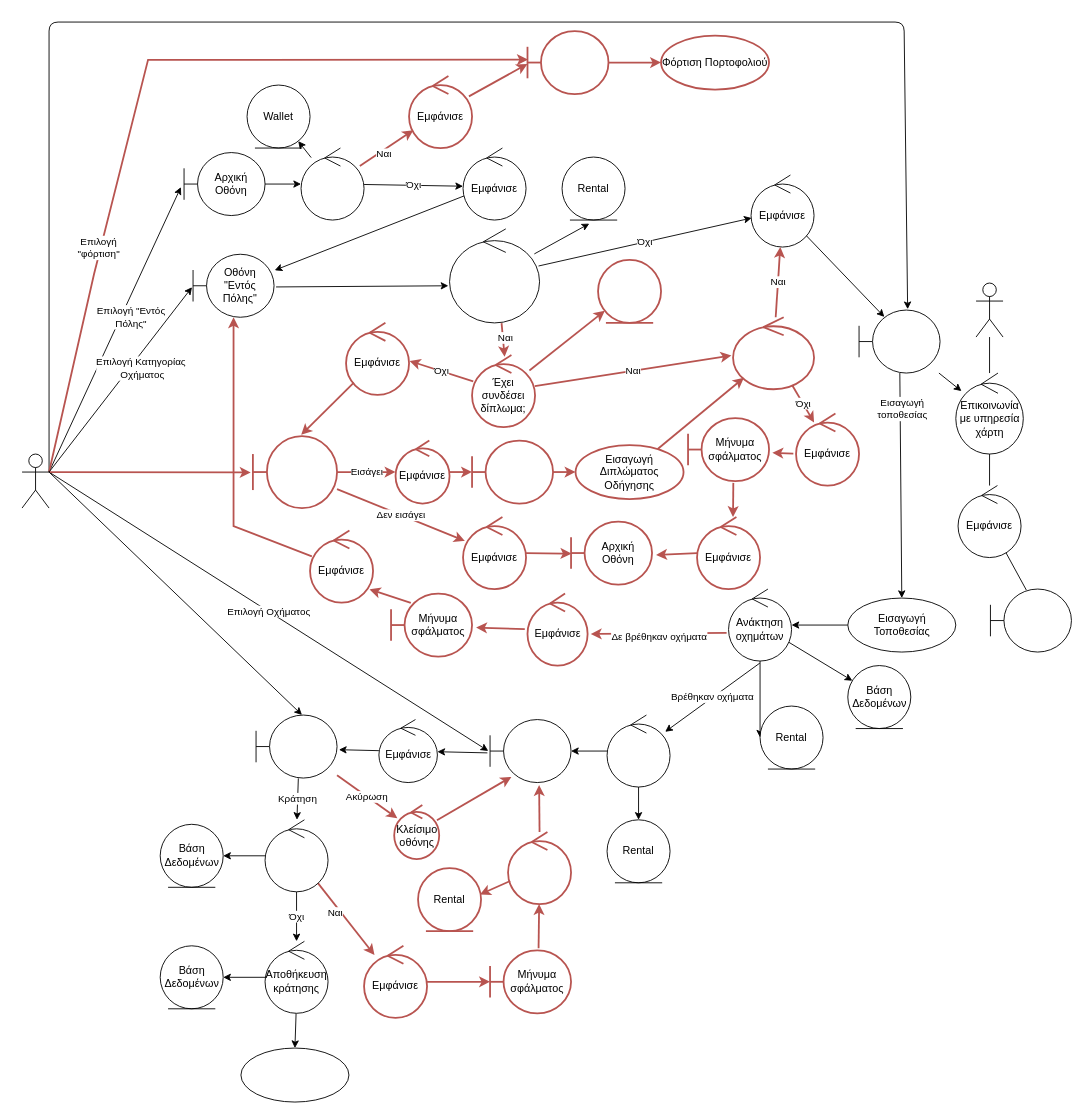
Image size: 1087x1118. Some labels were removed from this diagram. Each missing label, with the centre of its shape:
Customer: the point at 629,290
Έχει γίνει ήδη κράτηση;: the point at 296,855
Έχει ο πελάτης χρέος;: the point at 332,183
Απαιτεί το επιλεγμένο όχημα δίπλωμα;: the point at 494,275
Αφαίρεση οχήματος από χάρτη: the point at 539,867
Εμφάνιση οχημάτων στον χάρτη: the point at 638,750
Επιλογή Εισαγωγής Διπλώματος: the point at 295,471
Μήνυμα ύπαρξης χρέους: the point at 567,62
Ξεκλείδωμα Οχήματος: the point at 294,1074
Οθόνη εισαγωγής διπλώματος: the point at 512,471
Οθόνη πληροφοριών οχήματος: the point at 296,746
Πελάτης: the point at 35,480
Σελίδα Επιλεγμένου Μέσου: the point at 899,341
Το δίπλωμα αφορά το επιλεγμένο μέσο;: the point at 773,353
Υπηρεσία Χάρτη: the point at 989,309
Χάρτης: the point at 1030,620
Χάρτης με οχήματα: the point at 530,751
